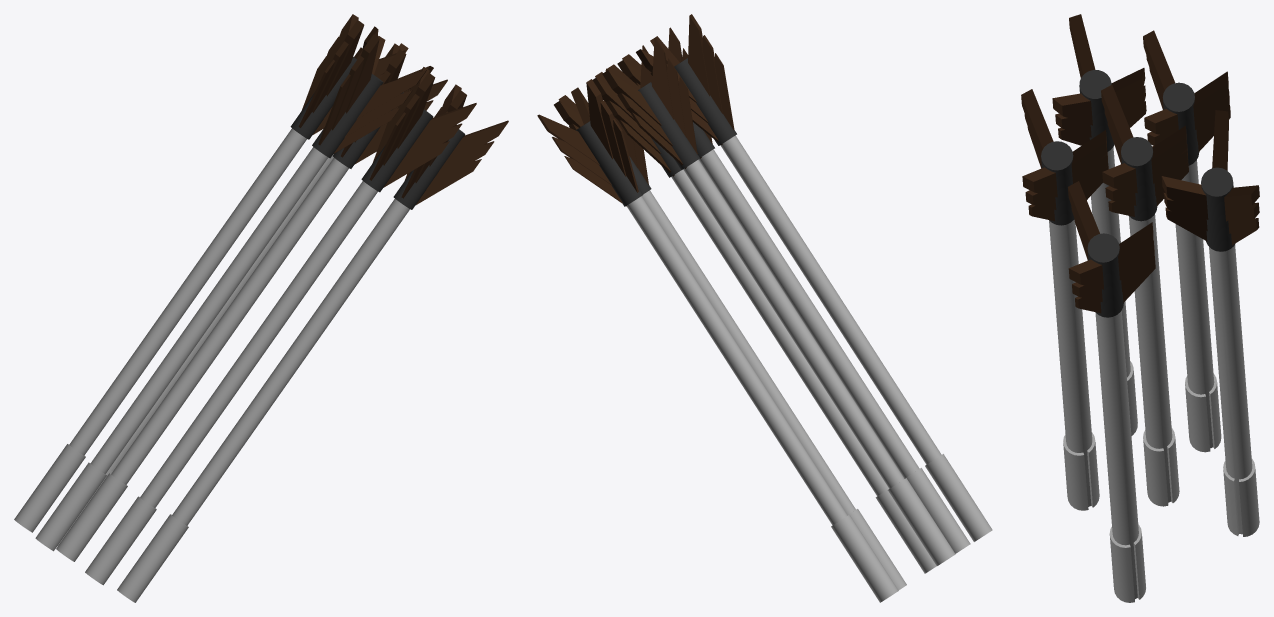
Rendered from ArcherGoblin_Arrow.fbx.
3 views of the same model, side by side, from view 1: azimuth 30°, elevation 25°; view 2: azimuth 150°, elevation 25°; view 3: azimuth 270°, elevation 25° (orthographic). The views are drawn at different scales.
Visible parts, largest first — view 1: pCylinder8; view 2: pCylinder8; view 3: pCylinder8.
Boxes of the visible parts, bbox=[...] form: pCylinder8: bbox=[14, 14, 508, 602]; pCylinder8: bbox=[537, 14, 992, 602]; pCylinder8: bbox=[1021, 14, 1259, 602].
Size of the model in its own units: 1.75 by 1.92 by 0.5601.
